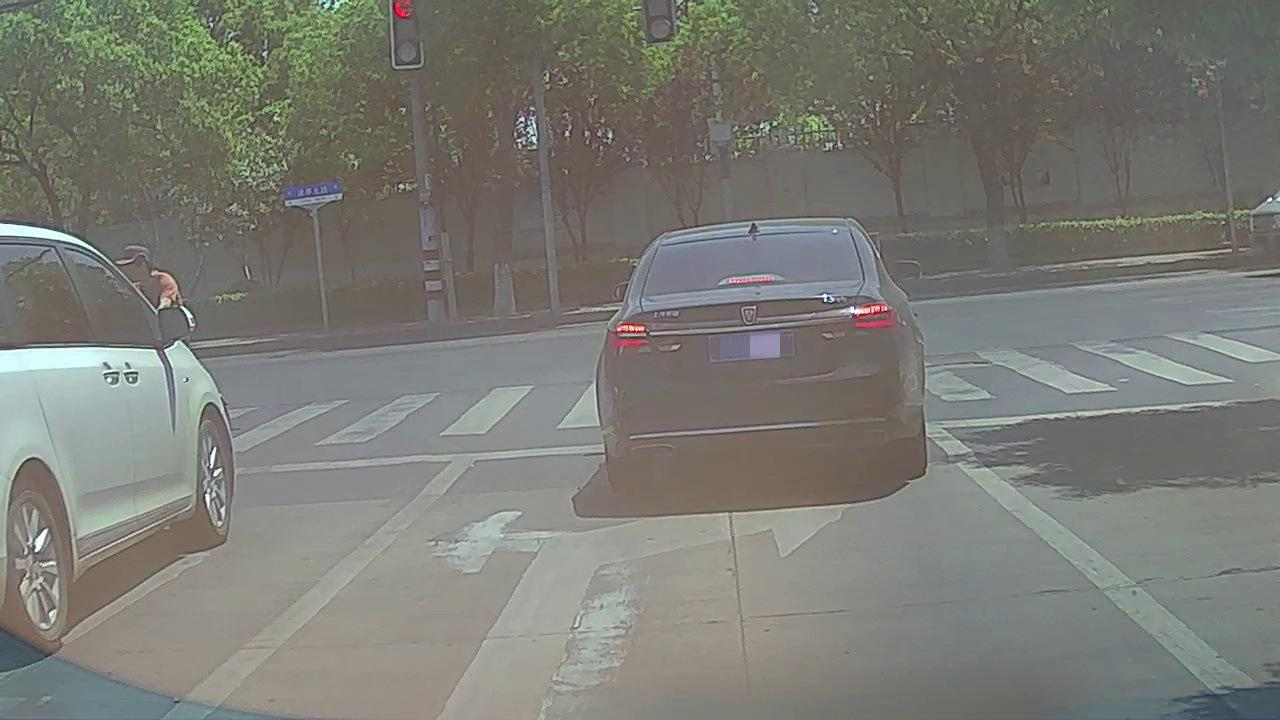traffic_light: (392, 1, 420, 66), (646, 1, 671, 43)
